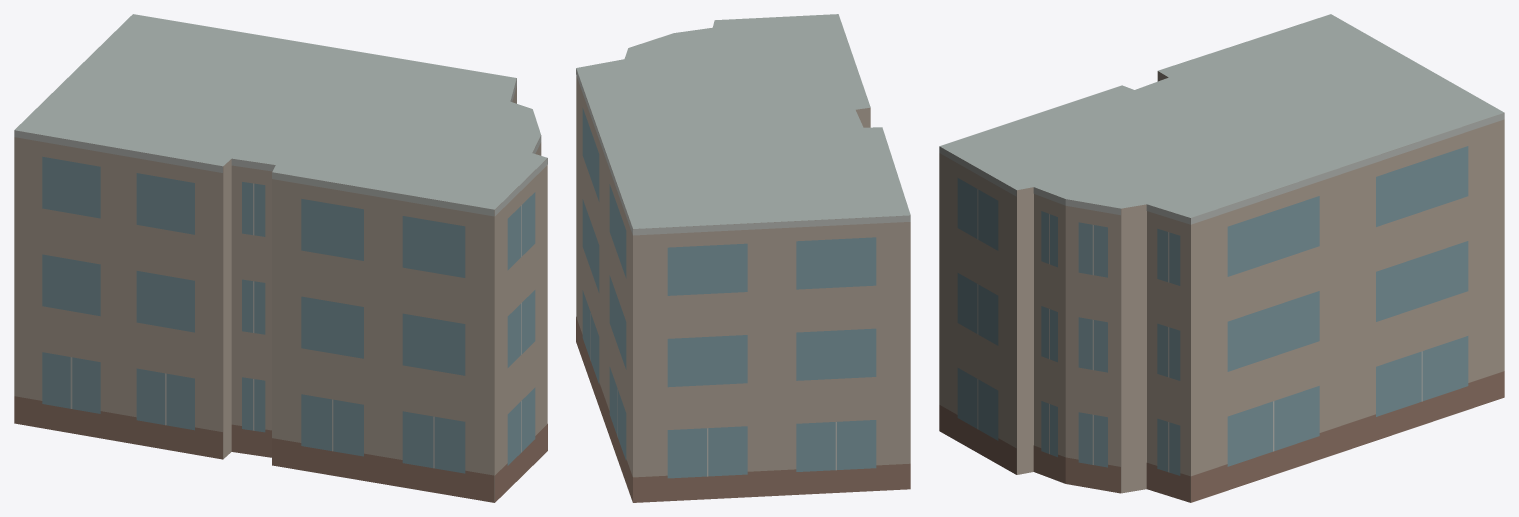
File: survey-upis-32609249.glb
3 views of the same model, side by side, from view 1: azimuth 30°, elevation 25°; view 2: azimuth 150°, elevation 25°; view 3: azimuth 270°, elevation 25° (orthographic). The views are drawn at different scales.
Parts seen in each view (by area): view 1: survey-upis-32609249.tmp; view 2: survey-upis-32609249.tmp; view 3: survey-upis-32609249.tmp.
Boxes of the visible parts, box(x1,y1,x2,y2) form: survey-upis-32609249.tmp: box(14, 14, 547, 502); survey-upis-32609249.tmp: box(576, 14, 910, 502); survey-upis-32609249.tmp: box(939, 14, 1504, 502).
Bounding box in the file's own units: 15.99 × 10.4 × 18.72.
